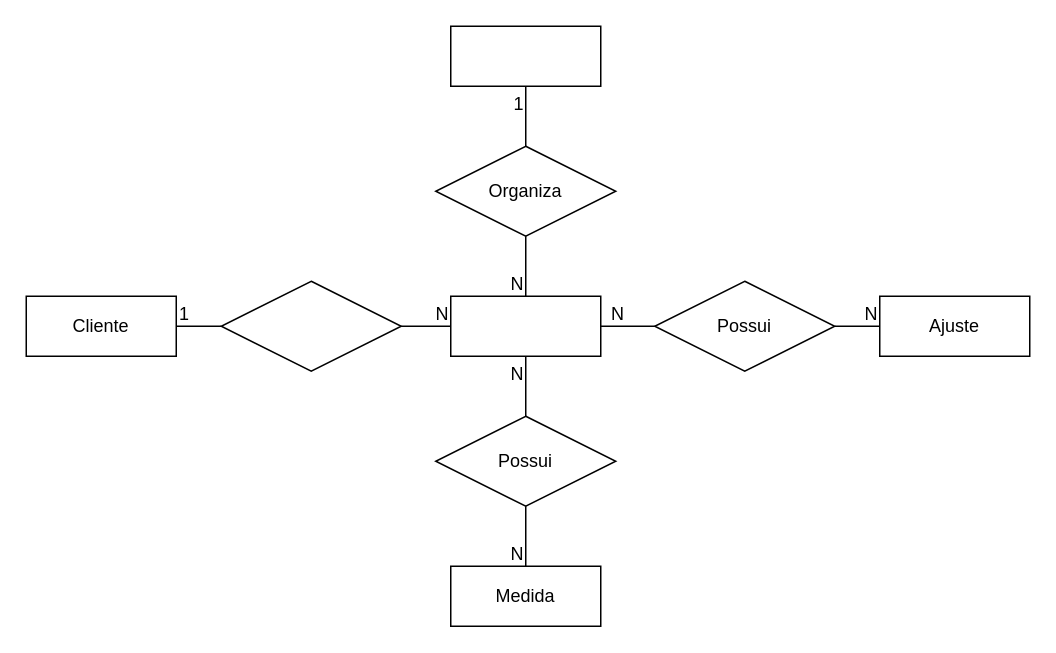
The diagram is 1056 pixels wide and 653 high, and some of its shapes have lost their labels. The shapes that lost their labels are listed below. From the top down, each one's centre as x and y in pixels, then its label:
At point 525,55: "Agenda".
At point 310,325: "Realiza".
At point 525,325: "Pedido".
